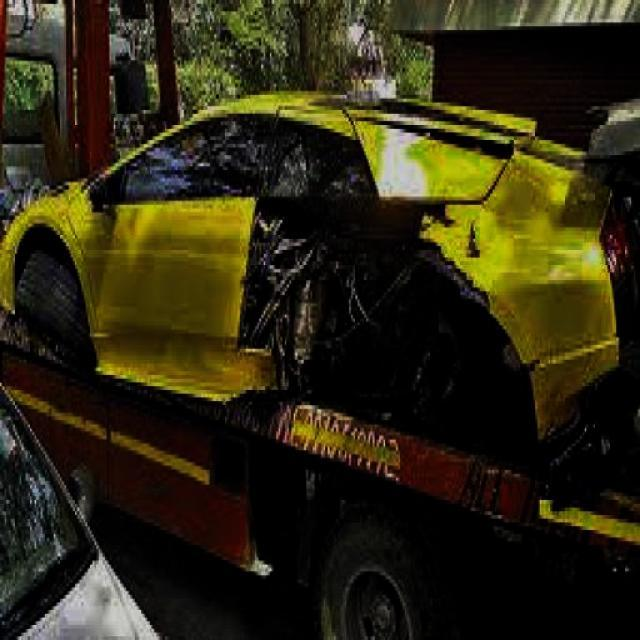car damage: (241, 179, 559, 437)
